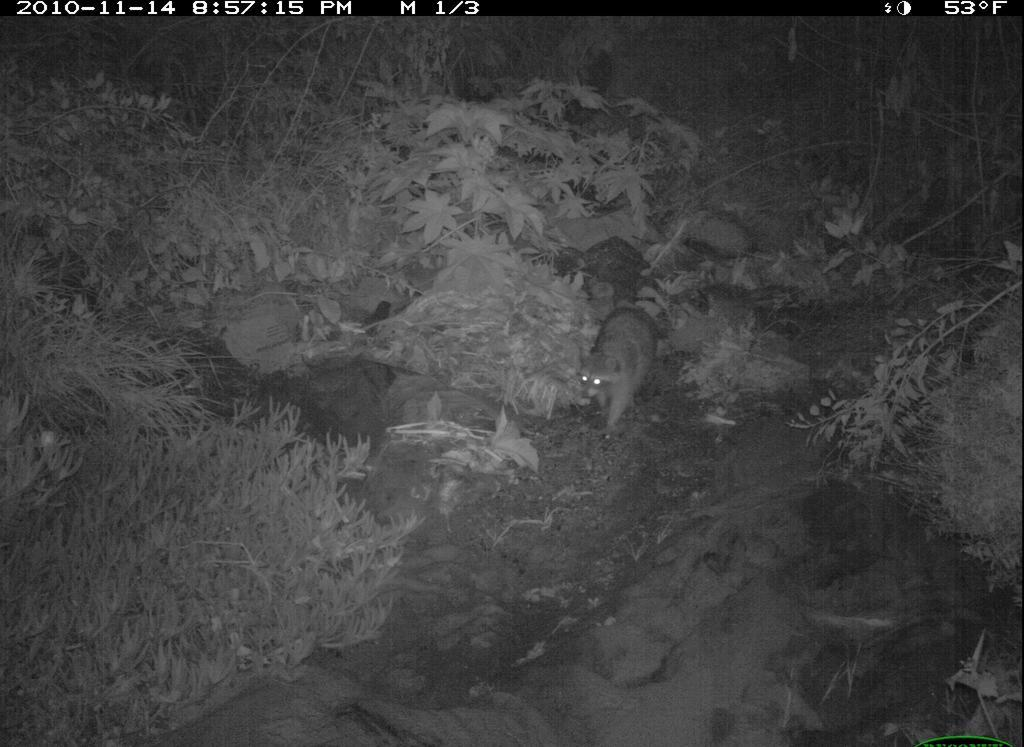raccoon: (555, 295, 673, 431)
